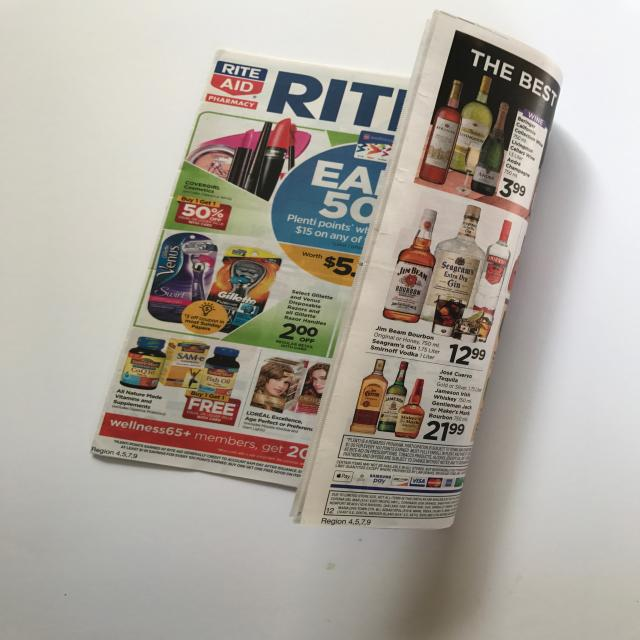Paper: (98, 7, 568, 560)
